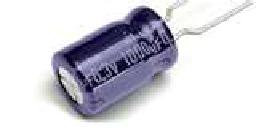Electrolytic-Capacitor: (50, 1, 245, 114)
